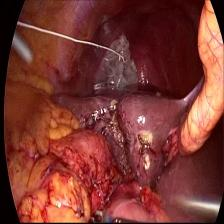Specimen Bag: (93, 28, 143, 101)
